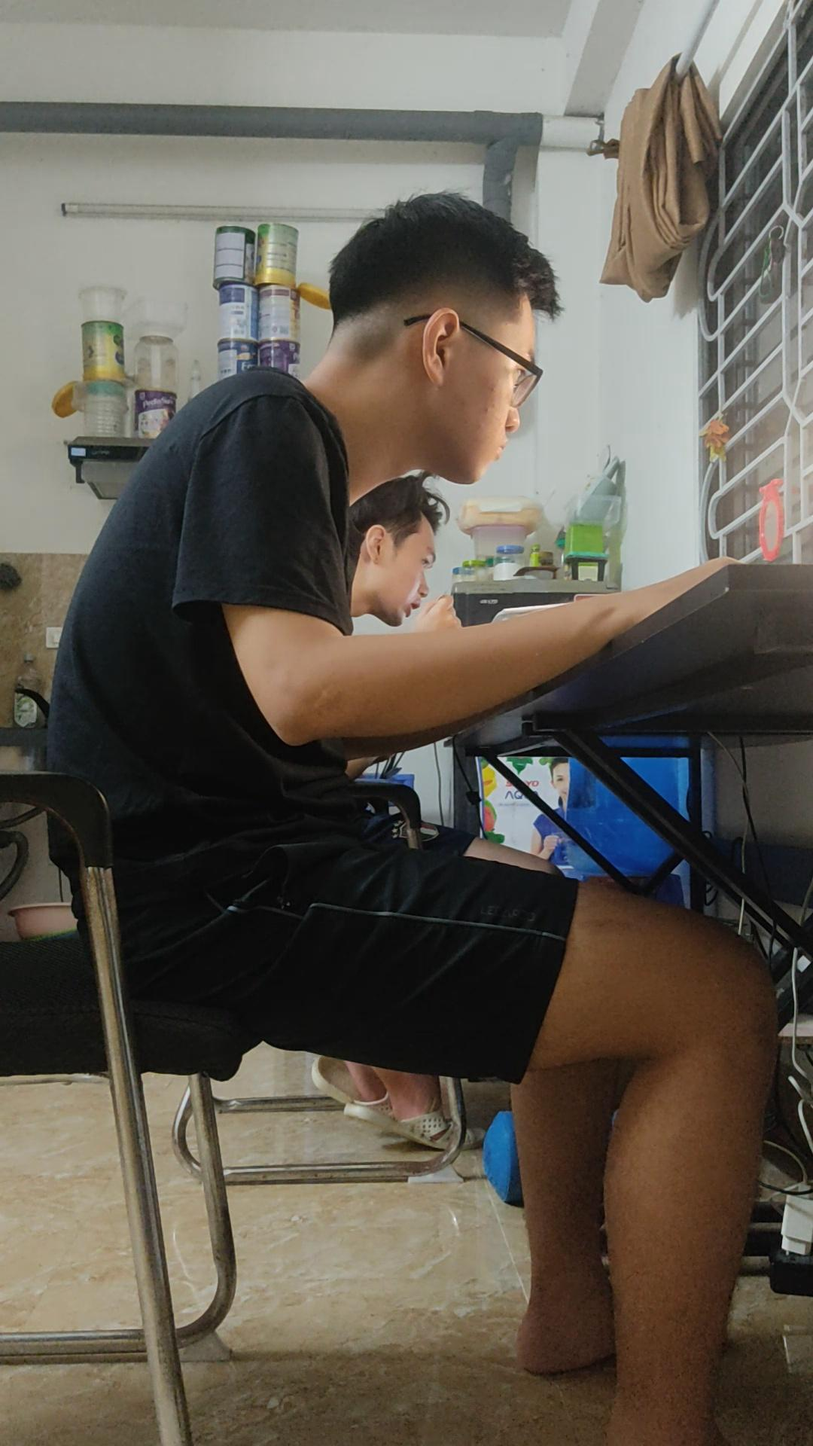BadPosture: (69, 195, 776, 1445)
